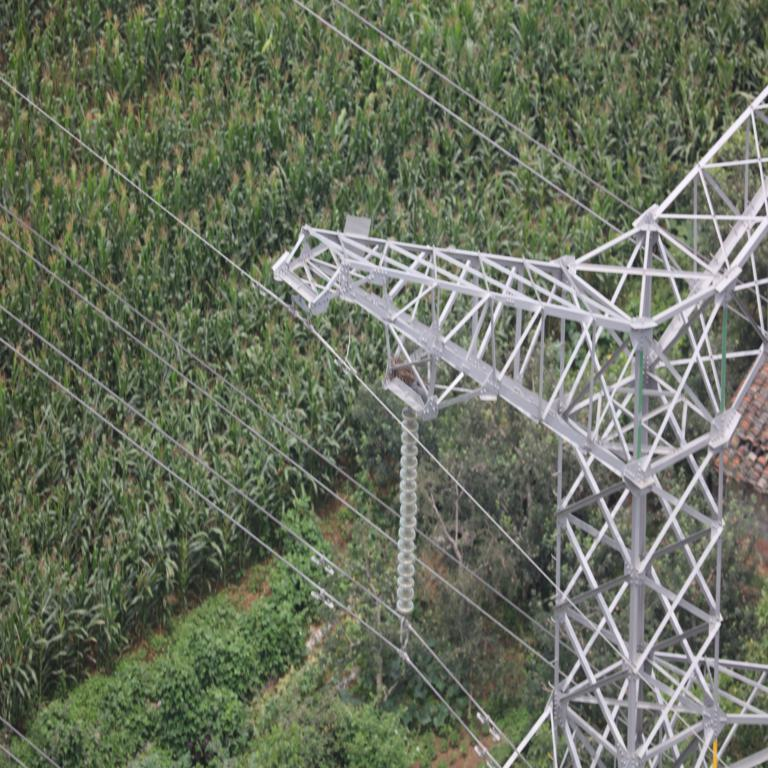nest: (391, 361, 415, 384)
